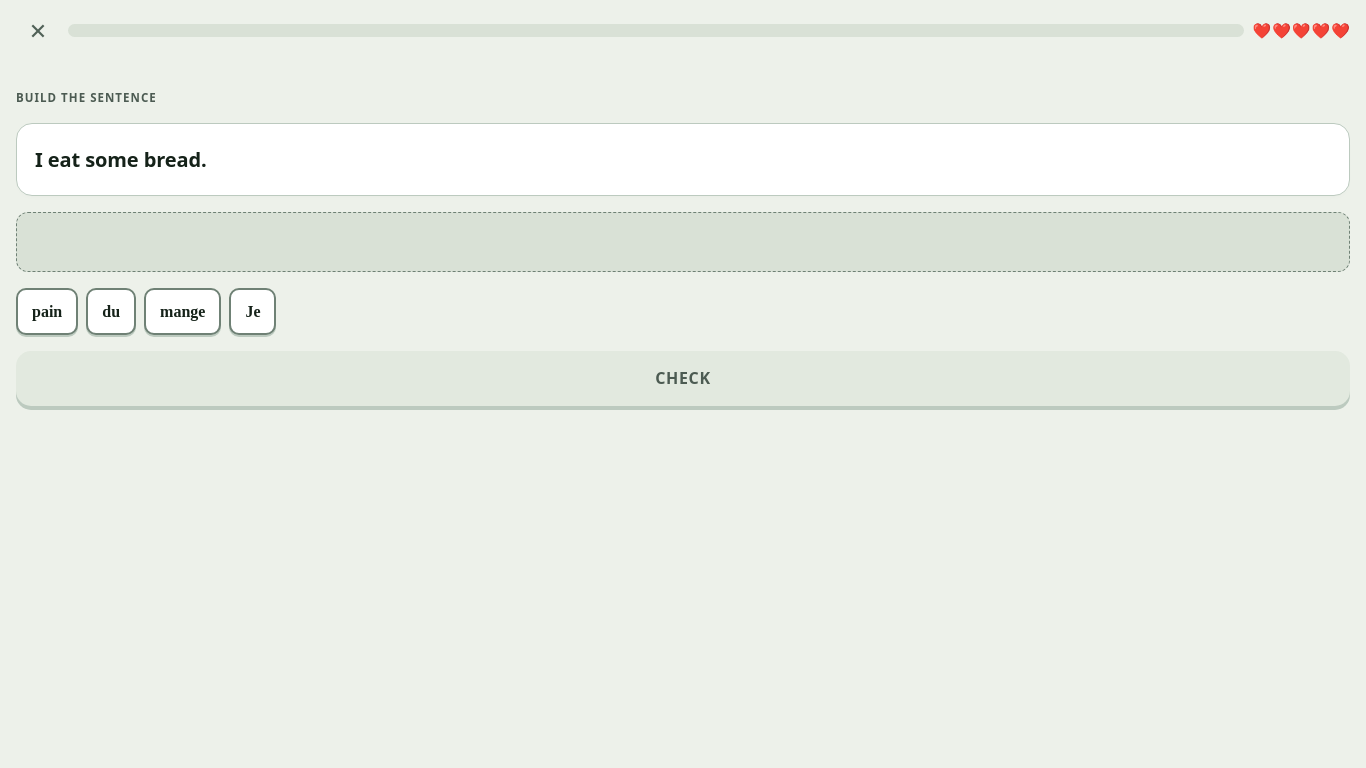
RoundView: every question kind can be answered › build: a wrong answer costs a heart, opens the why-card, and Got it moves on
Click the button "pain" at coordinates (47, 311), box [16,288,78,335]
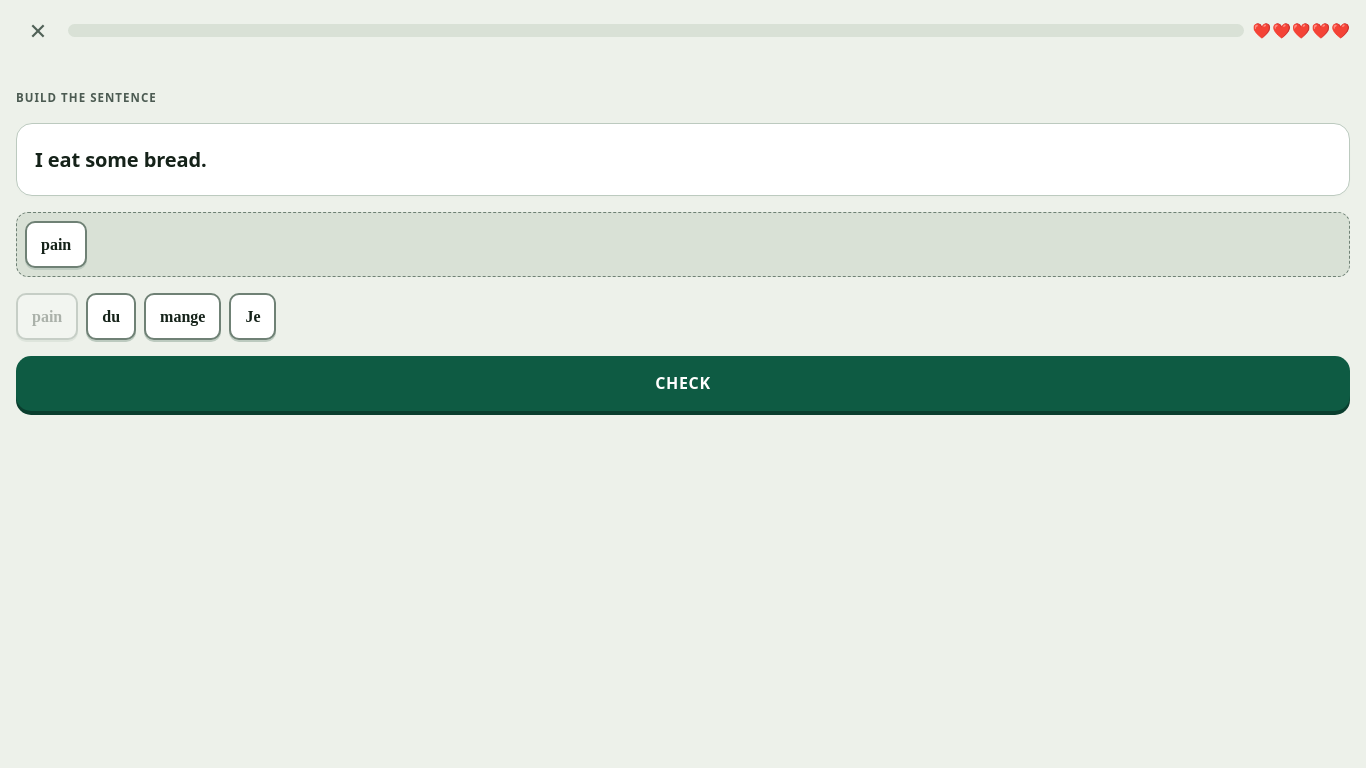
Click the button "Check" at coordinates (683, 384), box [16,356,1350,411]
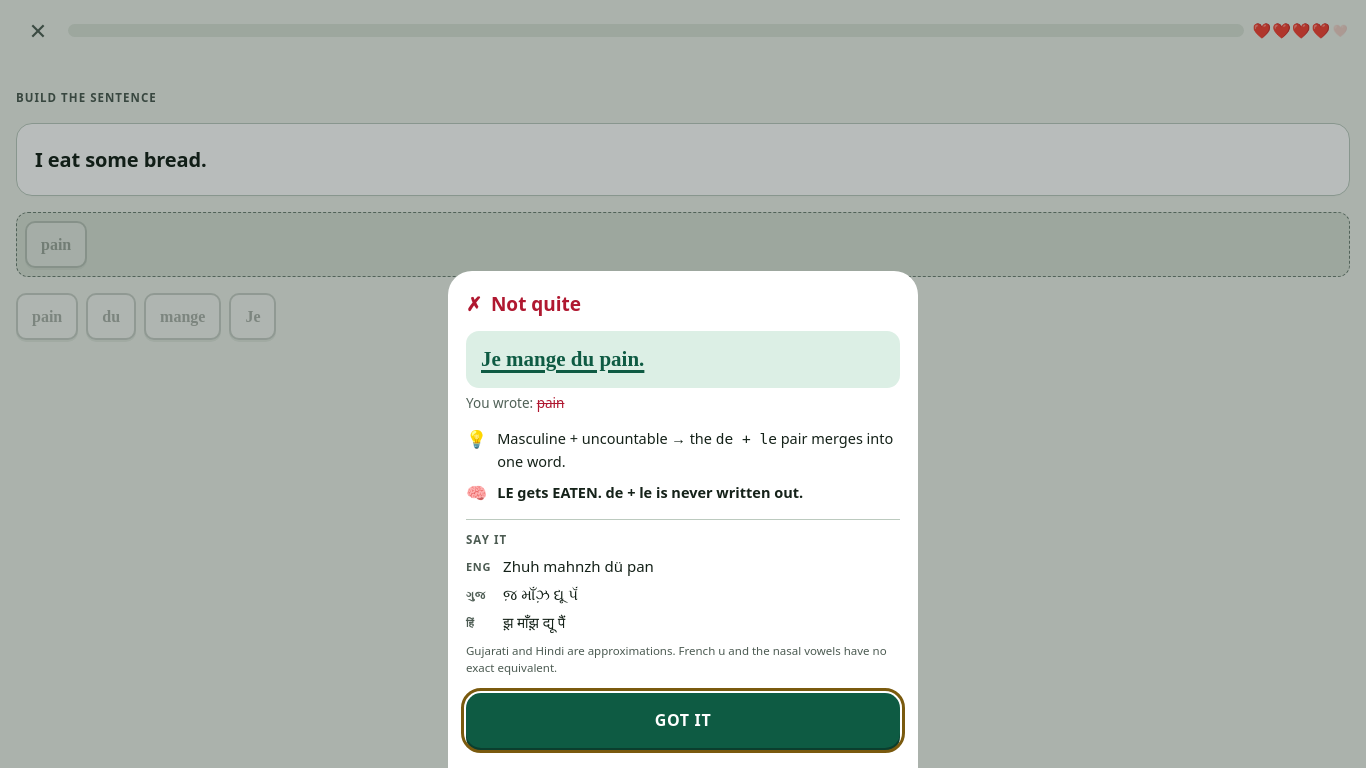
expect the picture named "4 of 5 hearts left" is shown: met, box [1252,22,1350,38]
Click the button "Got it" at coordinates (683, 720), box [466,693,900,748]
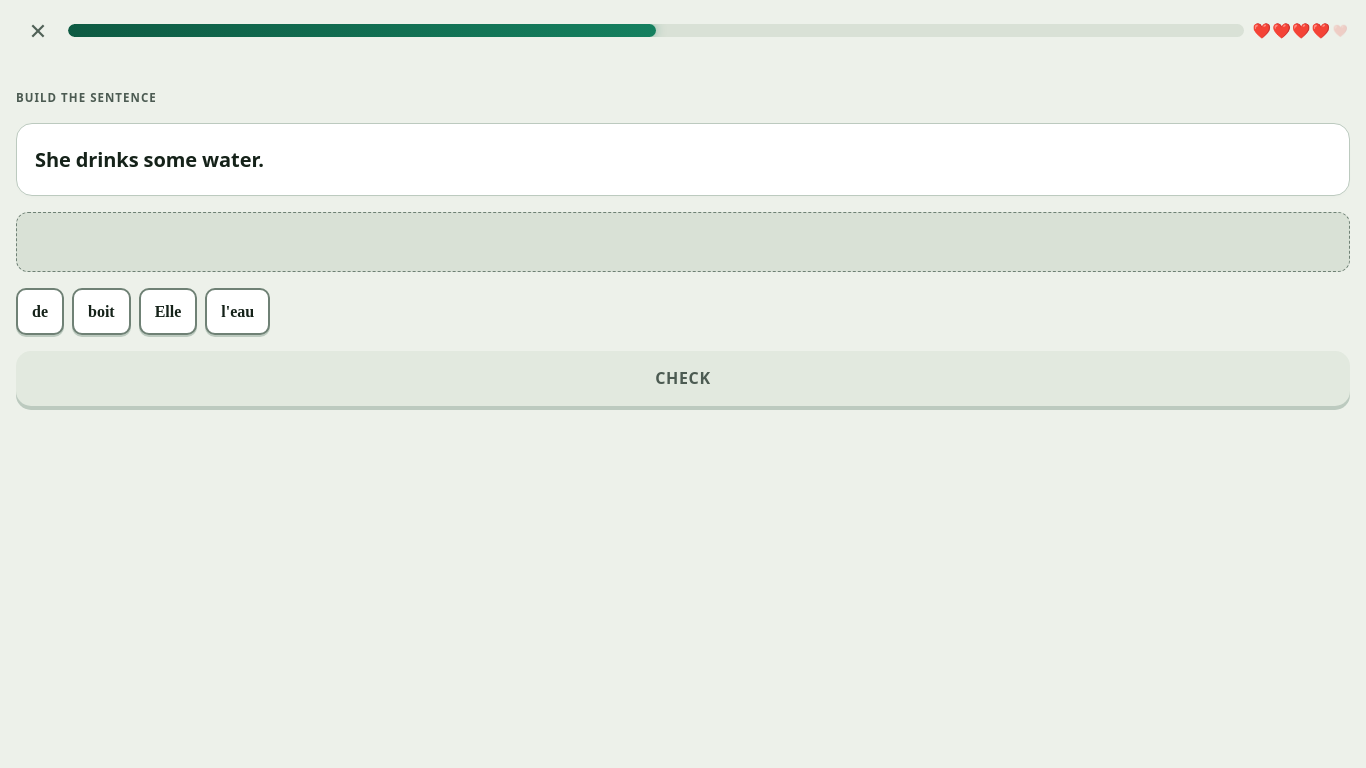
expect the dialog is gone: met
